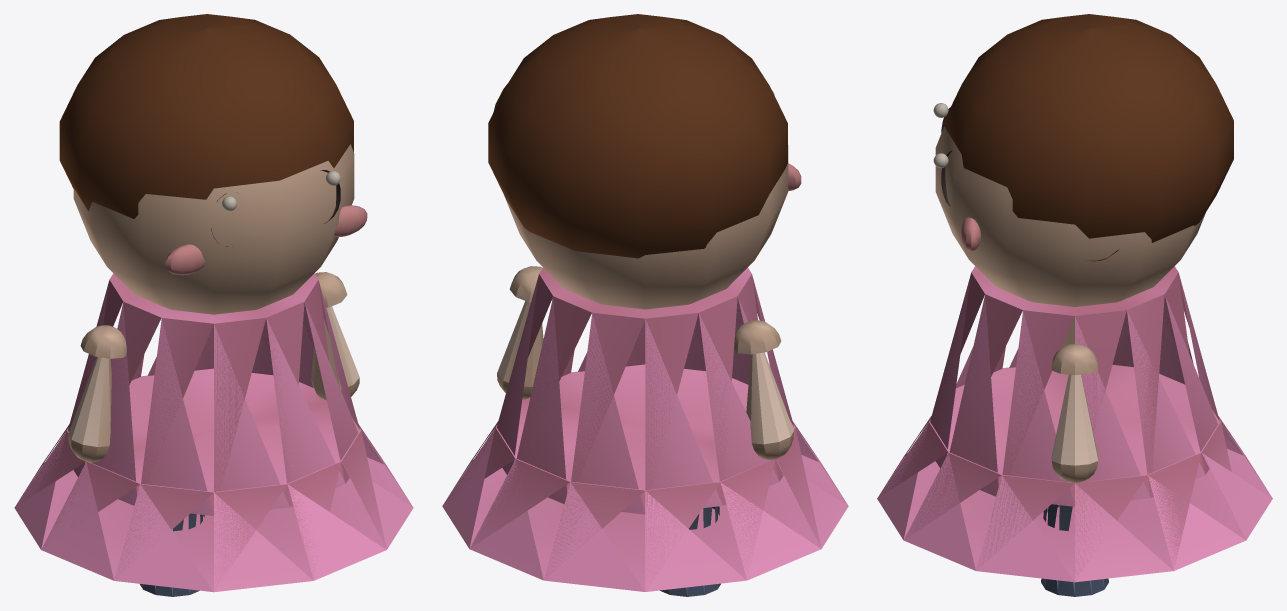
3 renders of one model, left to right at view 1: azimuth 30°, elevation 25°; view 2: azimuth 150°, elevation 25°; view 3: azimuth 270°, elevation 25°, orthographic. The views are drawn at different scales.
Parts seen in each view (by area): view 1: pet_p9356729c; view 2: pet_p9356729c; view 3: pet_p9356729c.
Boxes of the visible parts, <box> form: pet_p9356729c: <box>14,14,413,596</box>; pet_p9356729c: <box>442,14,848,596</box>; pet_p9356729c: <box>877,14,1272,596</box>.
Bounding box in the file's own units: 0.42 × 0.625 × 0.42.
